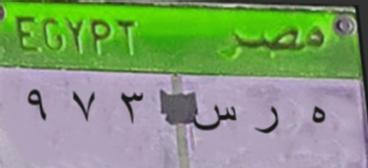3: (118, 84, 148, 131)
7: (70, 88, 100, 128)
9: (23, 83, 51, 130)
haa: (296, 93, 336, 134)
raa: (251, 100, 284, 142)
seen: (191, 100, 241, 132)
